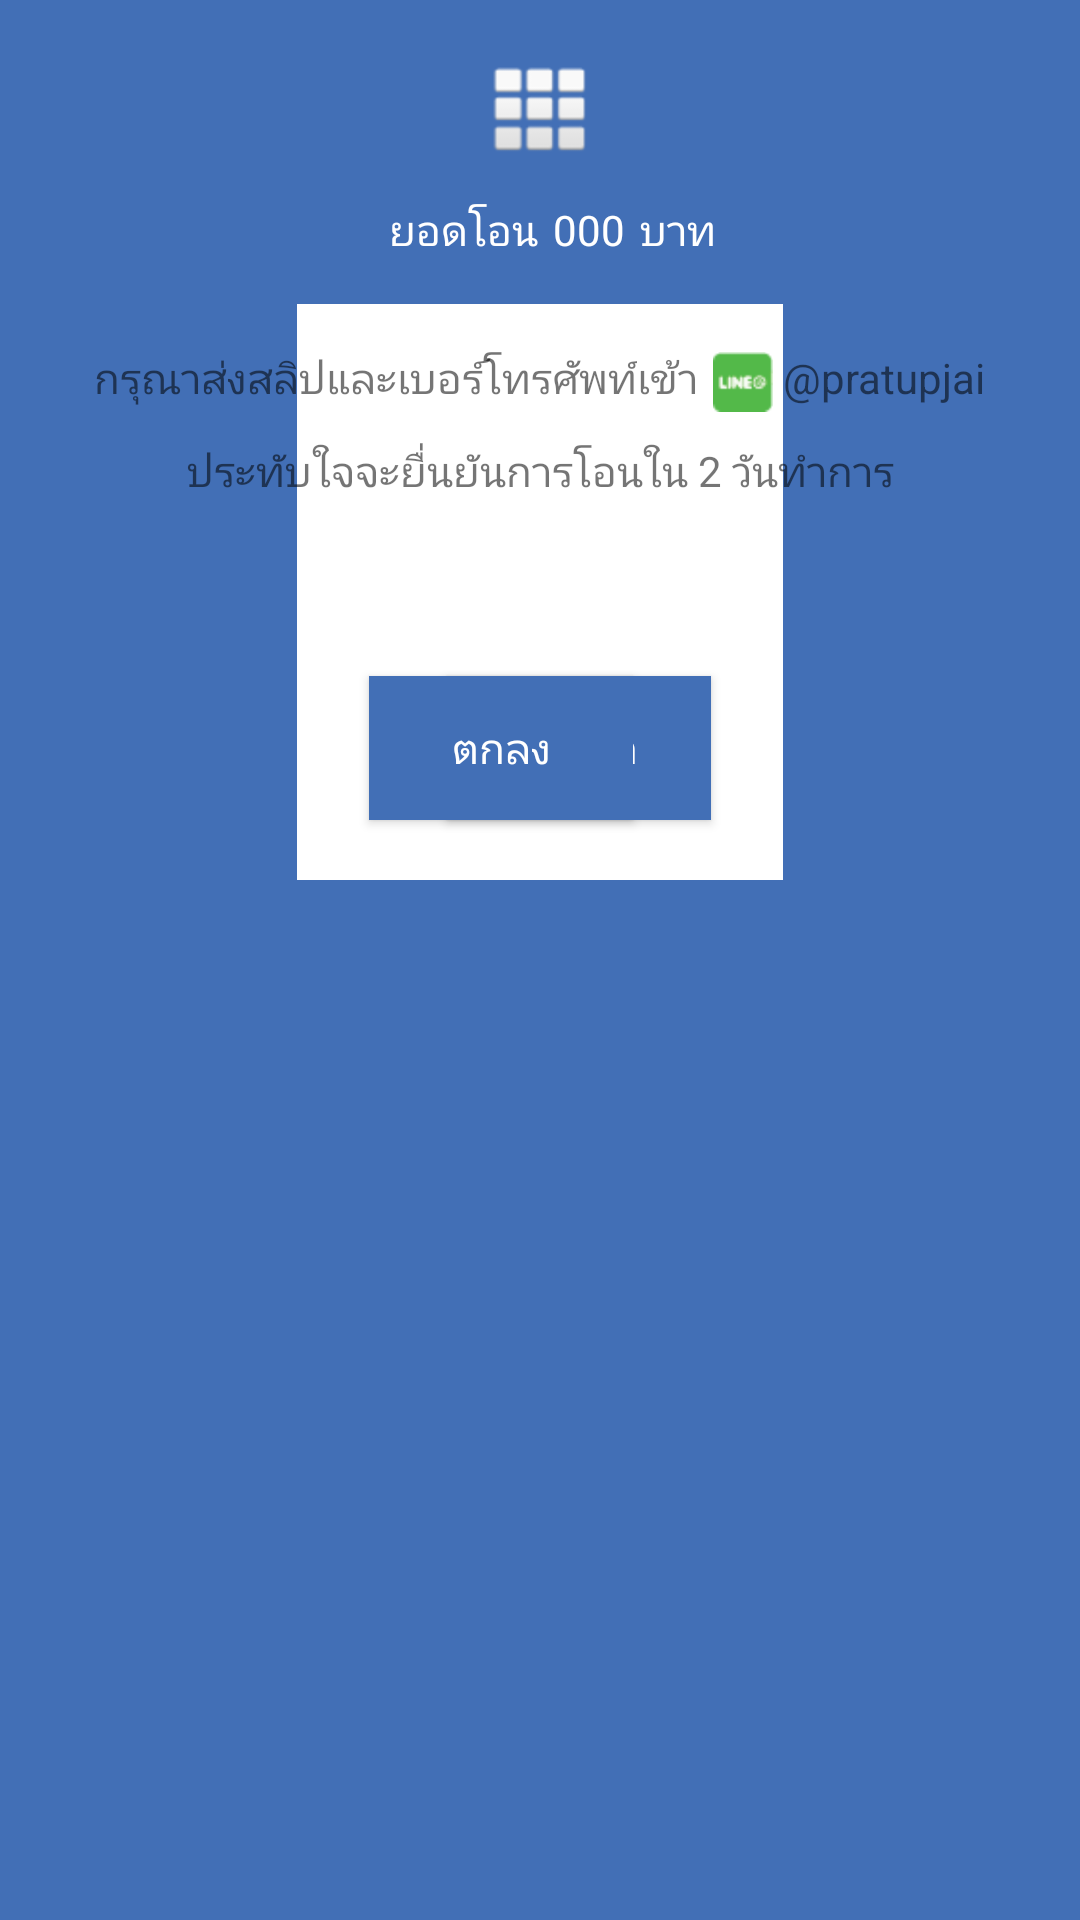

Screen size 1080x1920. Icon name, then its center in pixels as point (x, y):
dialer: point (539, 109)
